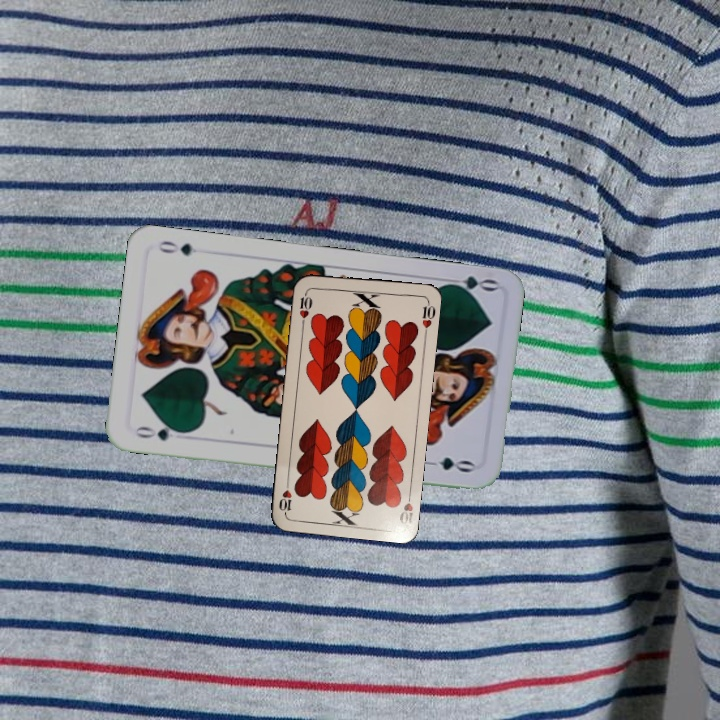GO: (439, 271, 499, 298), (131, 420, 189, 444)
H10: (395, 487, 416, 528), (295, 287, 315, 327)
